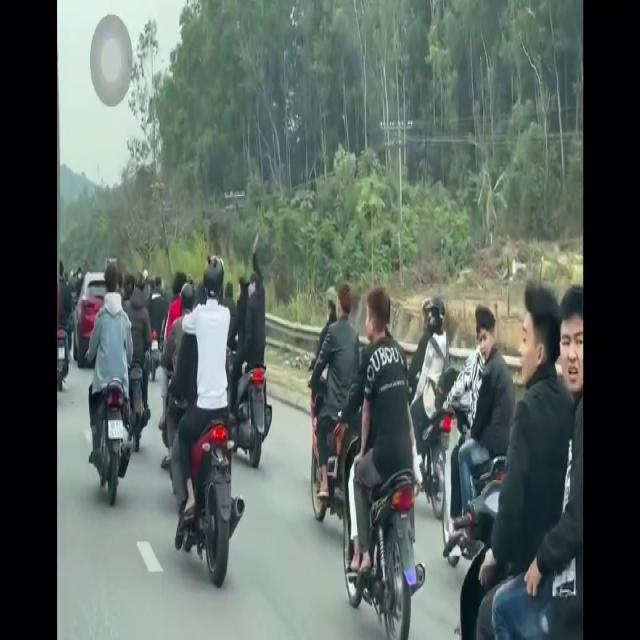helmet: (205, 252, 224, 310)
no_helmet: (523, 280, 558, 388), (560, 276, 584, 399), (364, 279, 395, 357), (479, 300, 500, 367), (339, 278, 354, 333), (324, 278, 338, 329), (104, 260, 120, 299)
